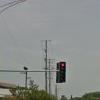Traffic light: (51, 56, 73, 91)
